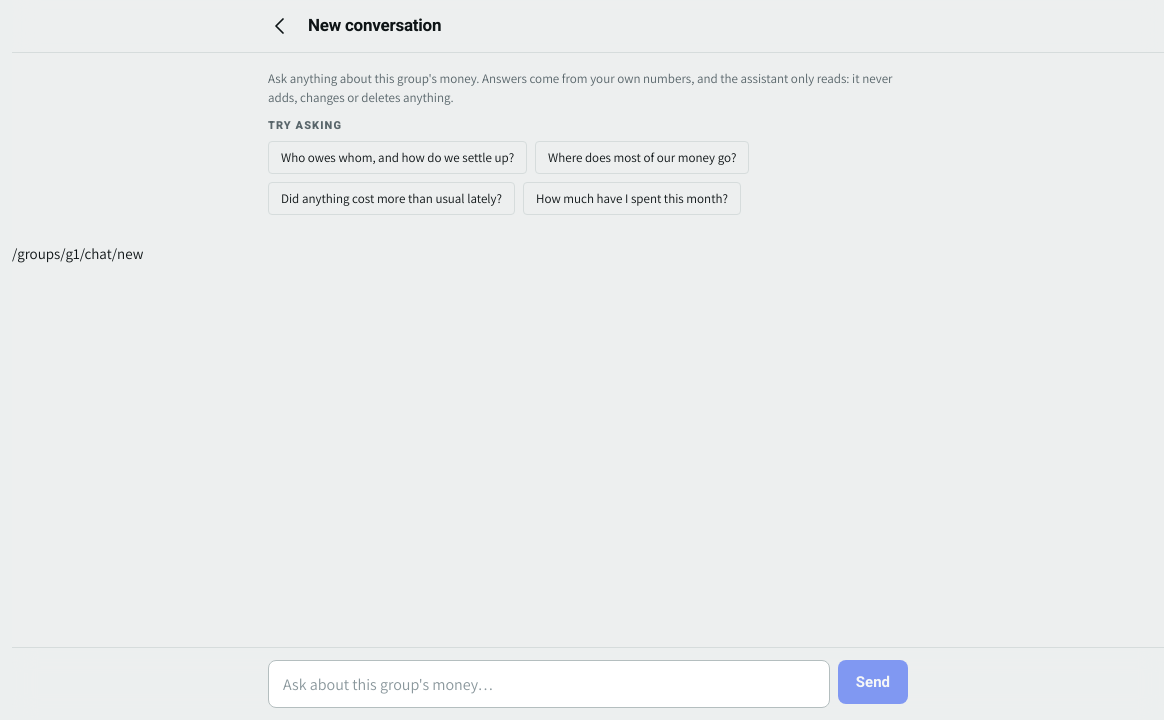
Test case: a new conversation › when it fails, keeps the question so it can be sent again
The image size is (1164, 720).
Type "Who owes whom?" into the field named "Your message" at x=549, y=684, box [268,660,830,708]
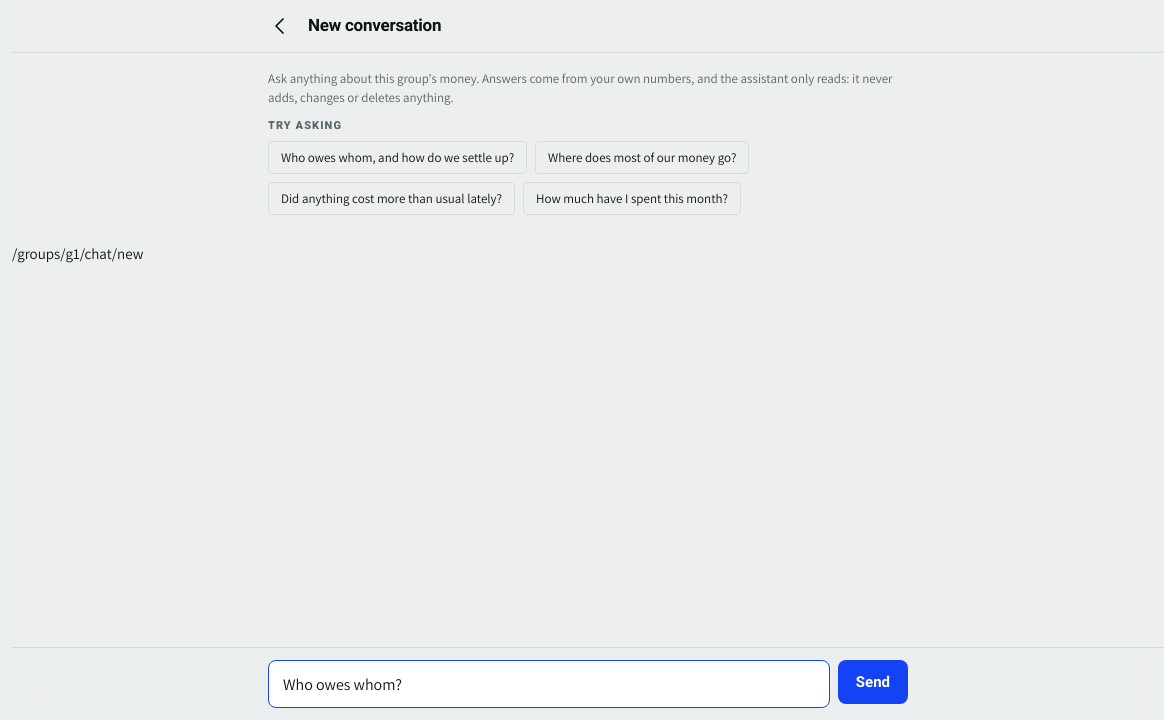
Click the button "Send" at x=873, y=682, box [838,660,908,704]
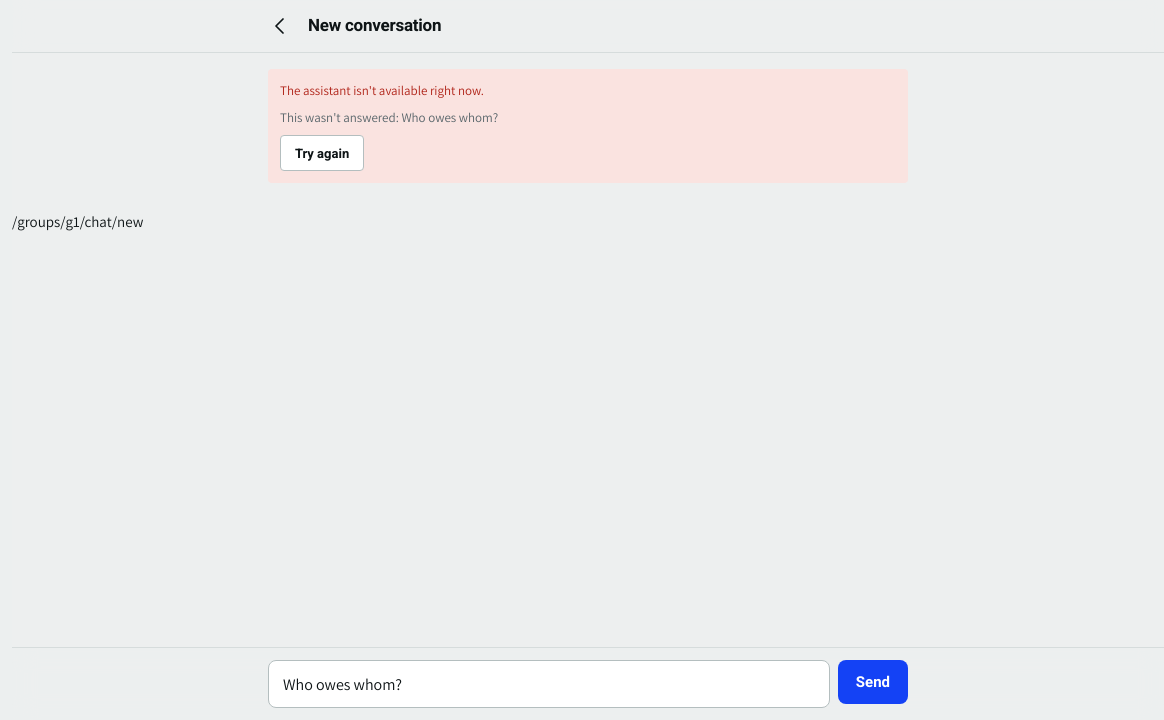
Expected: the message shows "The assistant isn't available right now.", [280,82,484,99]
Expected: the message shows "Who owes whom?", [401,109,498,126]
Click the button "Try again" at x=322, y=153, box [280,135,364,171]
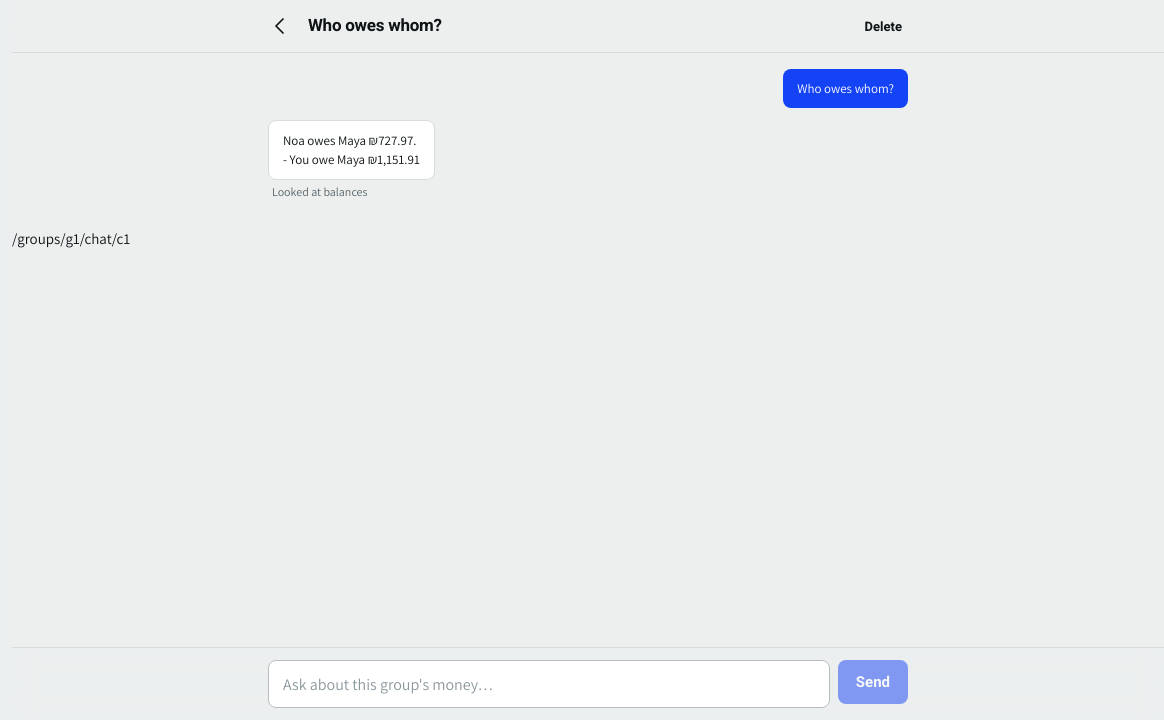
Expected: the text "Noa owes Maya ₪727.97. - You owe Maya ₪1,151.91" is shown, [268,120,435,180]
